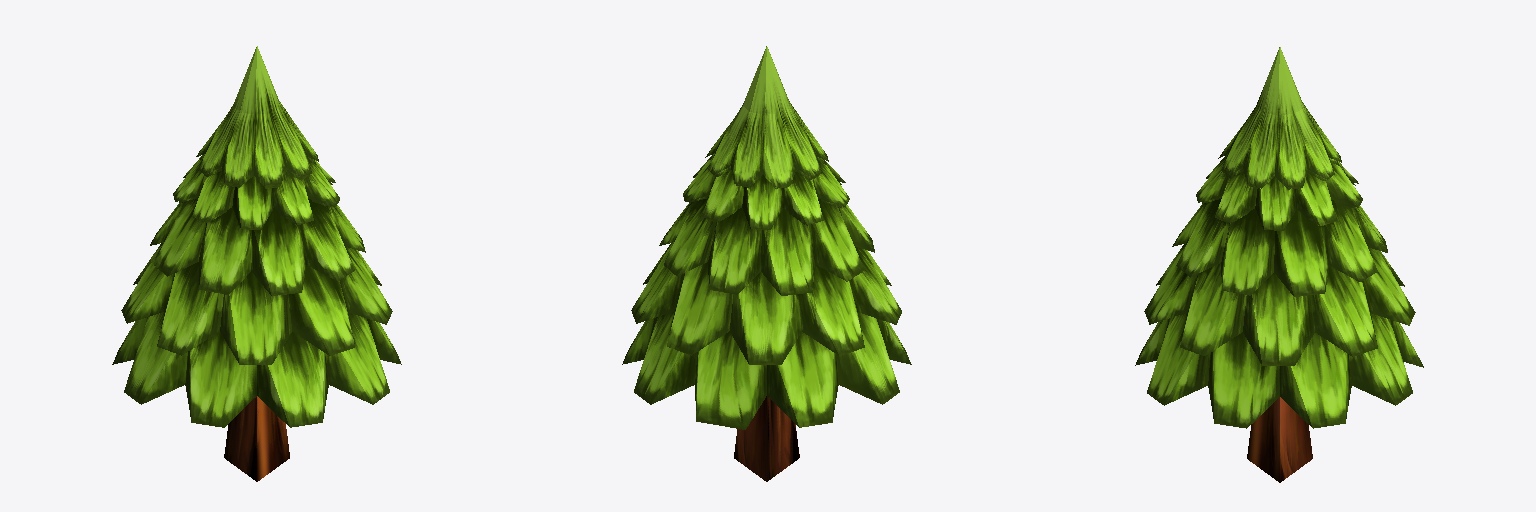
3 renders of one model, left to right at view 1: azimuth 30°, elevation 25°; view 2: azimuth 150°, elevation 25°; view 3: azimuth 270°, elevation 25°, orthographic.
Visible parts, largest first — view 1: Cone002_Untitled; view 2: Cone002_Untitled; view 3: Cone002_Untitled.
Part boxes in pixels (x1,y1,x2,y2): Cone002_Untitled: (112, 46, 401, 481); Cone002_Untitled: (622, 46, 911, 481); Cone002_Untitled: (1135, 47, 1423, 482).
Bounding box in the file's own units: 53.68 × 87.35 × 54.51.
1 materials, 1 textured.